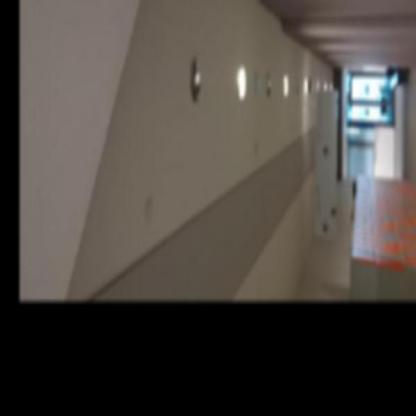light_off: (178, 49, 211, 110), (260, 63, 274, 107)
